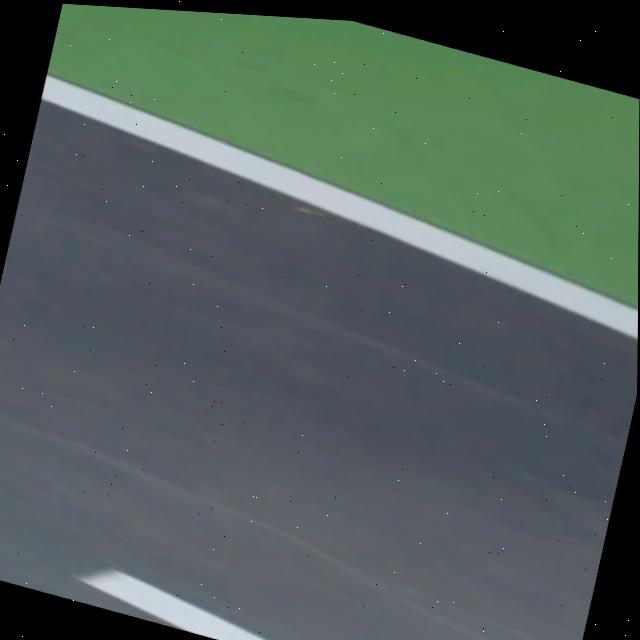center: (78, 570, 264, 640)
right: (40, 75, 638, 340)
